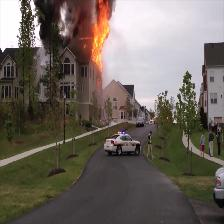fire: (94, 4, 108, 70)
smoke: (34, 1, 93, 50)
